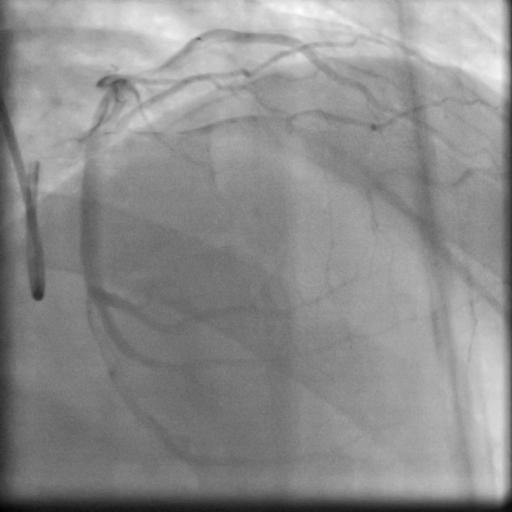Stenosis: (126, 58, 164, 83)
